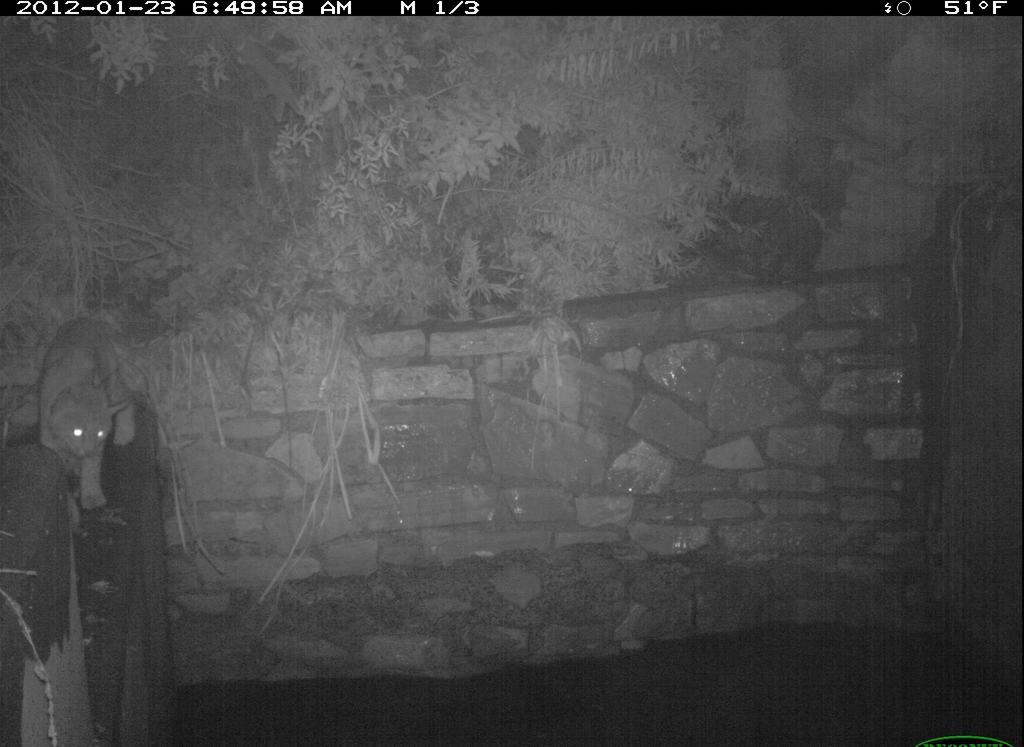bobcat: (29, 309, 145, 539)
